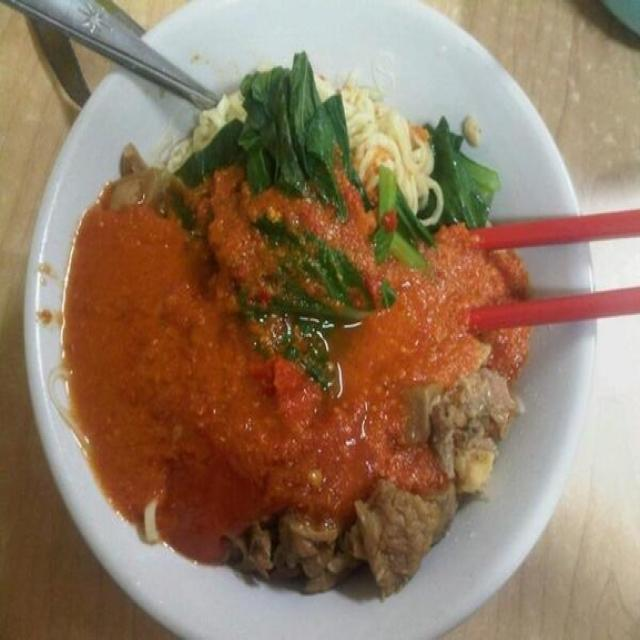面条主食: (33, 40, 598, 607)
